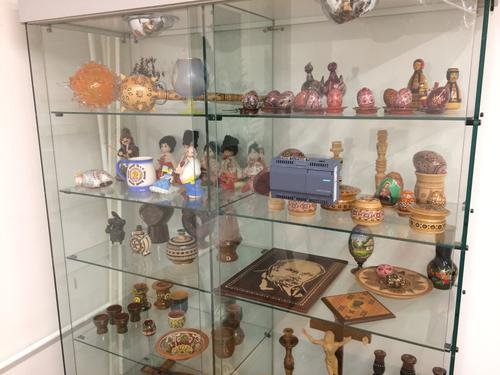iot2000: (268, 154, 341, 206)
